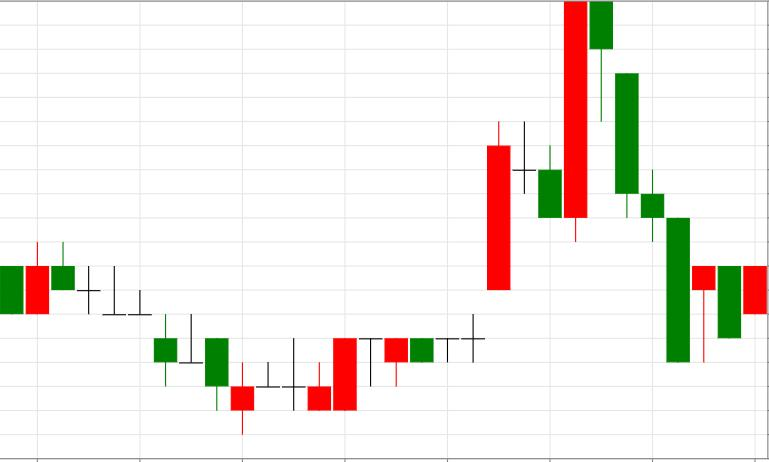hanging_man_fall: (308, 1, 613, 410)
